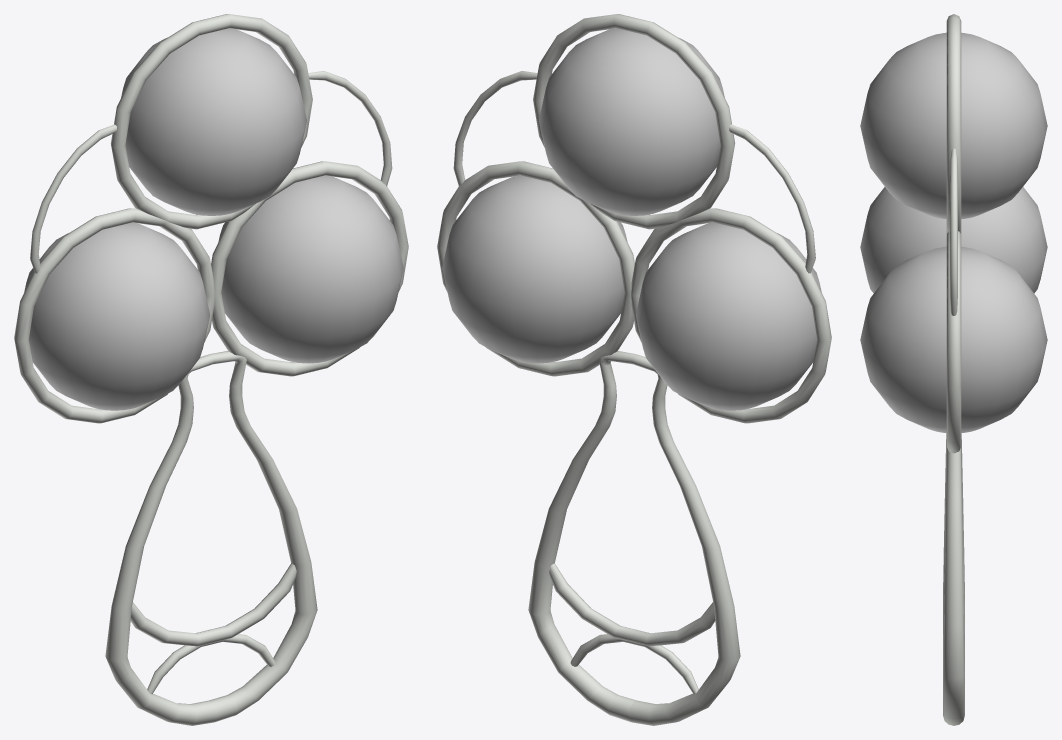
File: Chocalho.fbx
3 views of the same model, side by side, from view 1: azimuth 30°, elevation 25°; view 2: azimuth 150°, elevation 25°; view 3: azimuth 270°, elevation 25° (orthographic).
Parts seen in each view (by area): view 1: Torus; view 2: Torus; view 3: Torus.
Part boxes in pixels (bbox=[...]): Torus: bbox=[14, 14, 408, 725]; Torus: bbox=[437, 14, 831, 725]; Torus: bbox=[860, 14, 1047, 725].
Bounding box in the file's own units: 0.1168 × 0.1997 × 0.0492.
